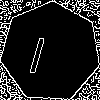I: (25, 27, 52, 75)
